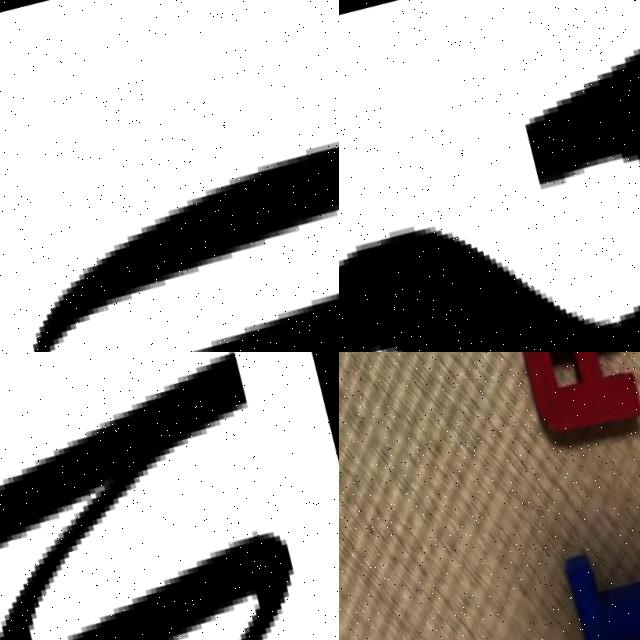0: (0, 65, 339, 352)
A: (512, 352, 640, 441)
H: (0, 352, 299, 640)
S: (339, 0, 640, 352)
T: (561, 523, 640, 640)
